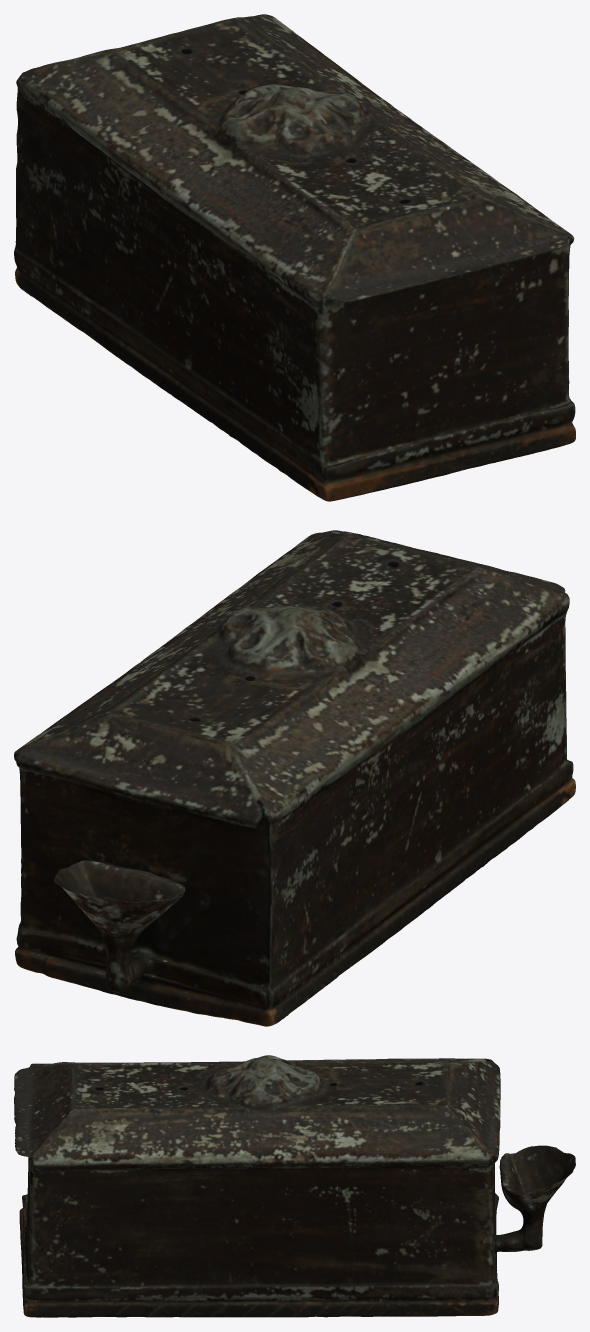
The model's file is patent-model-box.glb.
3 renders of one model, top to bottom at view 1: azimuth 30°, elevation 25°; view 2: azimuth 150°, elevation 25°; view 3: azimuth 270°, elevation 25°, orthographic. The views are drawn at different scales.
Bounding box in the file's own units: 0.1014 × 0.1013 × 0.2418.
Materials: 1 (1 with a texture image).
